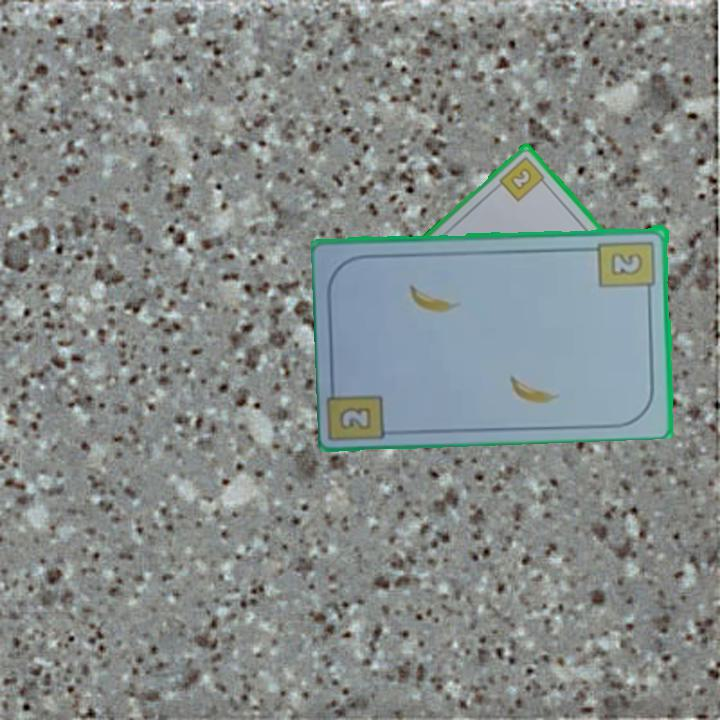2b: (596, 237, 658, 298), (496, 152, 550, 204), (335, 403, 375, 433)
